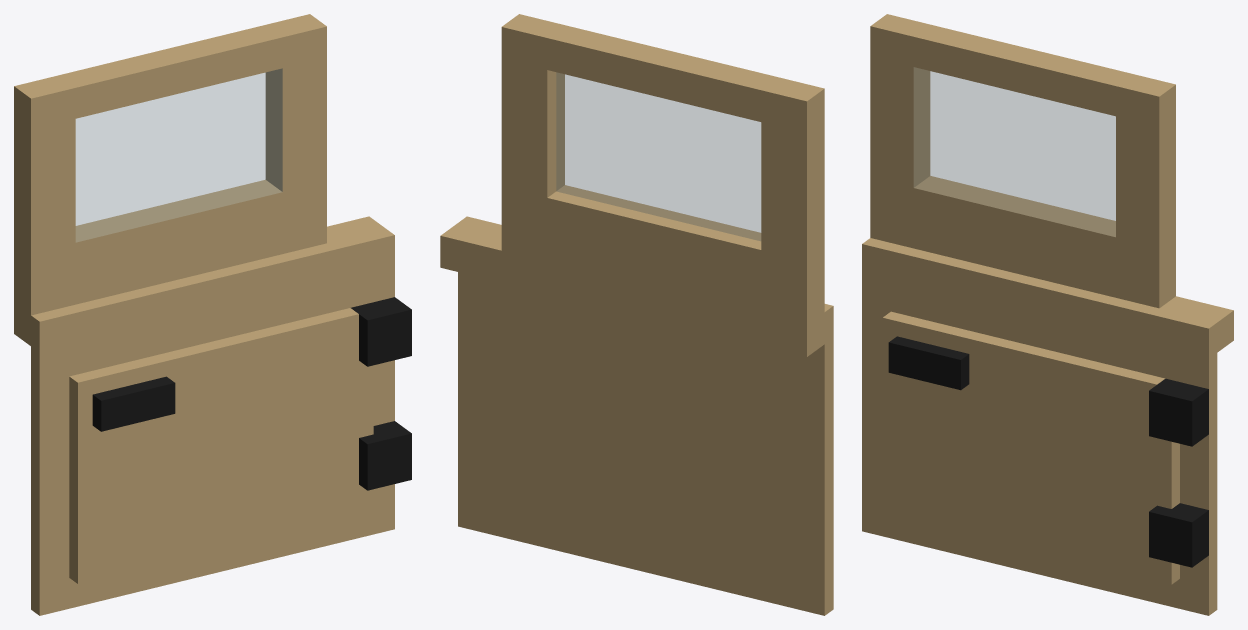
The model's file is light_tactical_vehicle_front_door.glb.
3 renders of one model, left to right at view 1: azimuth 30°, elevation 25°; view 2: azimuth 150°, elevation 25°; view 3: azimuth 330°, elevation 25°, orthographic. The views are drawn at different scales.
Parts seen in each view (by area): view 1: body:compound; view 2: body:compound; view 3: body:compound.
Boxes of the visible parts, x1,y1,x2,y2 form: body:compound: (14,14,411,615); body:compound: (440,14,833,615); body:compound: (862,14,1233,615).
Size of the model in its own units: 0.75 by 1.03 by 0.1562.
